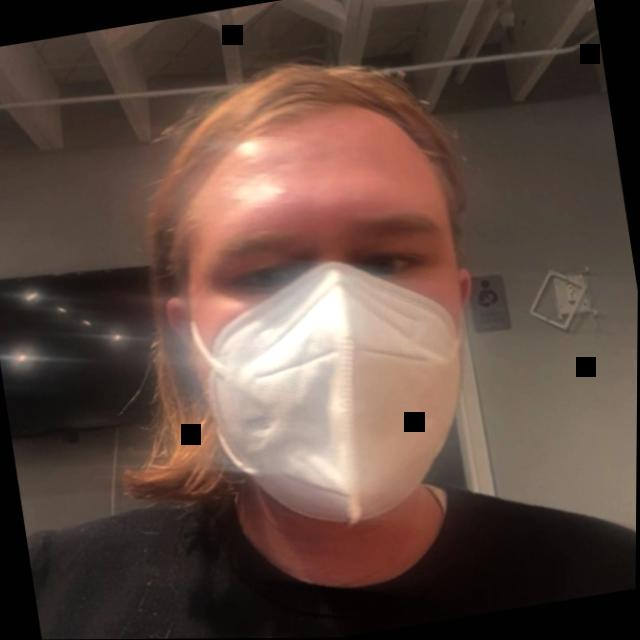Mask: (52, 37, 532, 629)
